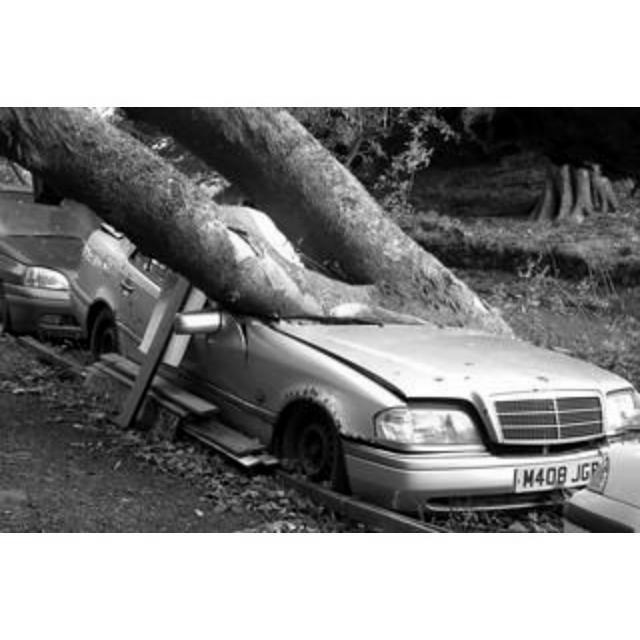bonnet-dent: (324, 323, 606, 439)
fender-dent: (166, 307, 378, 435)
